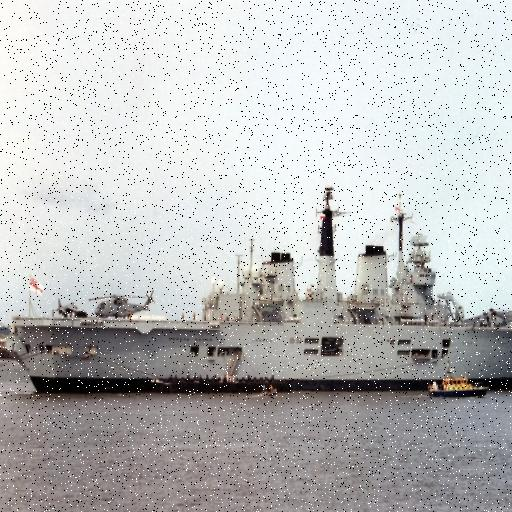Portanaves: (1, 173, 512, 397)
